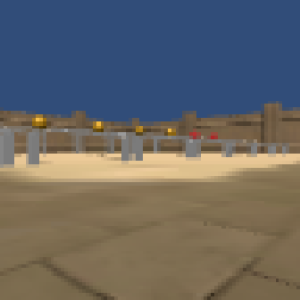badGoal: (188, 130, 201, 142), (210, 131, 219, 140)
goodGoalMulti: (32, 114, 48, 129), (91, 120, 103, 133), (164, 126, 177, 137), (134, 123, 144, 137)
wall: (121, 135, 146, 163), (1, 126, 16, 167), (24, 128, 40, 164), (219, 140, 237, 159), (184, 141, 202, 159), (104, 132, 116, 155), (74, 130, 84, 154), (152, 136, 162, 153), (266, 145, 278, 157), (248, 144, 258, 156)
